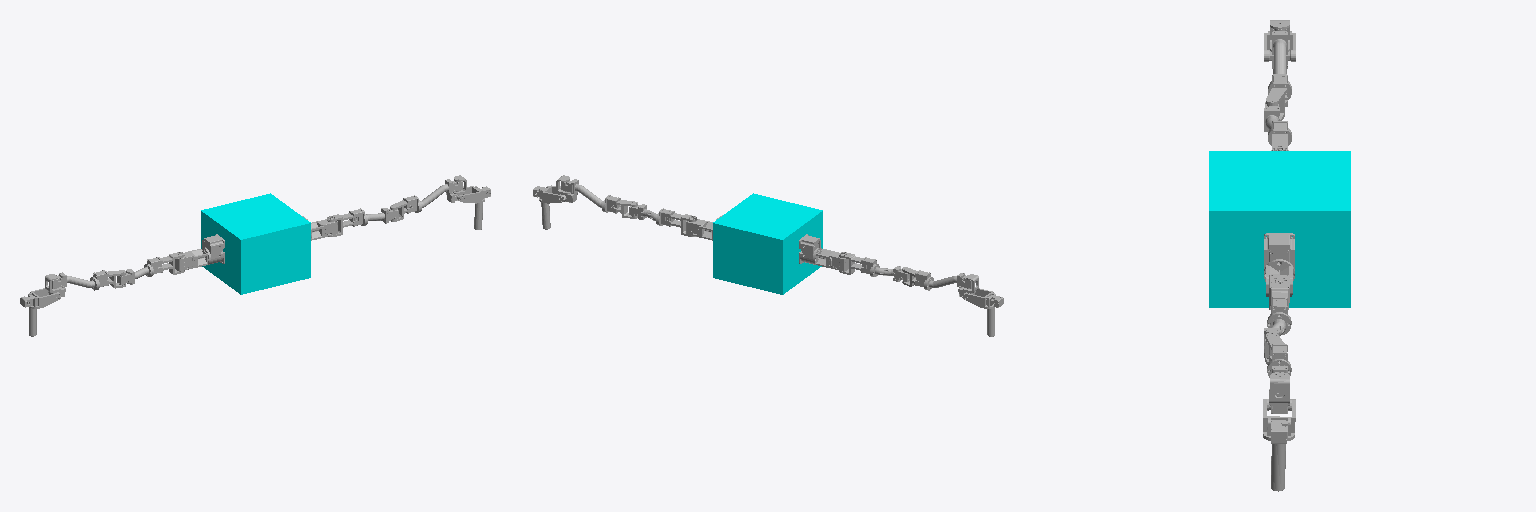
The robot description file, URDF, robot "m6_isomorphism_description":
<?xml version="1.0" encoding="utf-8"?>
<!-- This URDF was automatically created by SolidWorks to URDF Exporter! Originally created by Stephen Brawner (brawner@gmail.com) 
     Commit Version: 1.6.0-4-g7f85cfe  Build Version: 1.6.7995.38578
     For more information, please see http://wiki.ros.org/sw_urdf_exporter -->
<robot
  name="m6_isomorphism_description">
  <link
    name="torso_link">
    <visual>
      <origin xyz="0 0 0" rpy="0 0 0" />
      <geometry>
        <box size="0.2 0.2 0.15" />
      </geometry>
      <material name="Cyan">
        <color rgba="0 1.0 1.0 1.0"/>
      </material>
    </visual> 
    <collision>
      <origin xyz="0 0 0" rpy="0 0 0"/>
      <geometry>
        <box size="0.5 0.5 0.2" />
      </geometry>
    </collision>
  </link>
  <link
    name="lbase_link">
    <inertial>
      <origin
        xyz="0.00081892 -0.0083159 0.021995"
        rpy="0 0 0" />
      <mass
        value="0.14153" />
      <inertia
        ixx="5.3433E-05"
        ixy="9.5426E-15"
        ixz="-1.697E-16"
        iyy="3.2138E-05"
        iyz="5.391E-07"
        izz="5.5068E-05" />
    </inertial>
    <visual>
      <origin
        xyz="0 0 0"
        rpy="0 0 0" />
      <geometry>
        <mesh
          filename="package://m6_isomorphism_description/meshes/left/lbase_link.STL" />
      </geometry>
      <material
        name="">
        <color
          rgba="0.75294 0.75294 0.75294 1" />
      </material>
    </visual>
    <collision>
      <origin
        xyz="0 0 0"
        rpy="0 0 0" />
      <geometry>
        <mesh
          filename="package://m6_isomorphism_description/meshes/left/lbase_link.STL" />
      </geometry>
    </collision>
  </link>
  <joint
    name="left_Jbase"
    type="fixed">
    <origin
      xyz="0.1 0.0 0.0"
      rpy="-1.5708 0 -1.5708" />
    <parent
      link="torso_link" />
    <child
      link="lbase_link" />  
    <axis
      xyz="0 0 1" />
  </joint>
  <link
    name="Link1_left">
    <inertial>
      <origin
        xyz="-4.9359E-06 -0.00023578 0.055002"
        rpy="0 0 0" />
      <mass
        value="0.10316" />
      <inertia
        ixx="2.6252E-05"
        ixy="-1.512E-08"
        ixz="-1.5088E-09"
        iyy="2.553E-05"
        iyz="-7.2071E-08"
        izz="1.6668E-05" />
    </inertial>
    <visual>
      <origin
        xyz="0 0 0"
        rpy="0 0 0" />
      <geometry>
        <mesh
          filename="package://m6_isomorphism_description/meshes/left/Link1_left.STL" />
      </geometry>
      <material
        name="">
        <color
          rgba="0.75294 0.75294 0.75294 1" />
      </material>
    </visual>
    <collision>
      <origin
        xyz="0 0 0"
        rpy="0 0 0" />
      <geometry>
        <mesh
          filename="package://m6_isomorphism_description/meshes/left/Link1_left.STL" />
      </geometry>
    </collision>
  </link>
  <joint
    name="joint1_left"
    type="revolute">
    <origin
      xyz="0.00081892 0.0024472 0.039"
      rpy="0 0 0" />
    <parent
      link="lbase_link" />
    <child
      link="Link1_left" />
    <axis
      xyz="0 0 1" />
    <limit
      lower="-3.1415926536"
      upper="3.1415926536"
      effort="0"
      velocity="0" />
  </joint>
  <link
    name="Link2_left">
    <inertial>
      <origin
        xyz="-9.4609E-05 0.054722 0.0046093"
        rpy="0 0 0" />
      <mass
        value="0.053274" />
      <inertia
        ixx="1.6186E-05"
        ixy="3.4697E-08"
        ixz="1.1836E-07"
        iyy="1.0104E-05"
        iyz="-1.663E-06"
        izz="1.0442E-05" />
    </inertial>
    <visual>
      <origin
        xyz="0 0 0"
        rpy="0 0 0" />
      <geometry>
        <mesh
          filename="package://m6_isomorphism_description/meshes/left/Link2_left.STL" />
      </geometry>
      <material
        name="">
        <color
          rgba="0.75294 0.75294 0.75294 1" />
      </material>
    </visual>
    <collision>
      <origin
        xyz="0 0 0"
        rpy="0 0 0" />
      <geometry>
        <mesh
          filename="package://m6_isomorphism_description/meshes/left/Link2_left.STL" />
      </geometry>
    </collision>
  </link>
  <joint
    name="joint2_left"
    type="revolute">
    <origin
      xyz="0 0 0.07625"
      rpy="1.5708 0 0" />
    <parent
      link="Link1_left" />
    <child
      link="Link2_left" />
    <axis
      xyz="0 0 1" />
    <limit
      lower="-2.006"
      upper="2.006"
      effort="0"
      velocity="0" />
  </joint>
  <link
    name="Link3_left">
    <inertial>
      <origin
        xyz="-0.0088573 0.00010453 0.060075"
        rpy="0 0 0" />
      <mass
        value="0.039076" />
      <inertia
        ixx="9.9382E-06"
        ixy="1.2005E-10"
        ixz="1.4648E-06"
        iyy="1.0153E-05"
        iyz="-3.7245E-09"
        izz="2.7E-06" />
    </inertial>
    <visual>
      <origin
        xyz="0 0 0"
        rpy="0 0 0" />
      <geometry>
        <mesh
          filename="package://m6_isomorphism_description/meshes/left/Link3_left.STL" />
      </geometry>
      <material
        name="">
        <color
          rgba="0.752941176470588 0.752941176470588 0.752941176470588 1" />
      </material>
    </visual>
    <collision>
      <origin
        xyz="0 0 0"
        rpy="0 0 0" />
      <geometry>
        <mesh
          filename="package://m6_isomorphism_description/meshes/left/Link3_left.STL" />
      </geometry>
    </collision>
  </link>
  <joint
    name="joint3_left"
    type="revolute">
    <origin
      xyz="0 0.0856 0"
      rpy="1.5708 0.020931 3.1416" />
    <parent
      link="Link2_left" />
    <child
      link="Link3_left" />
    <axis
      xyz="0 0 1" />
    <limit
      lower="-3.1415926536"
      upper="3.1415926536"
      effort="0"
      velocity="0" />
  </joint>
  <link
    name="Link4_left">
    <inertial>
      <origin
        xyz="0.0090125 -0.046452 0.0047712"
        rpy="0 0 0" />
      <mass
        value="0.045678" />
      <inertia
        ixx="9.3402E-06"
        ixy="7.9511E-07"
        ixz="-1.5755E-07"
        iyy="7.7962E-06"
        iyz="6.394E-07"
        izz="5.5638E-06" />
    </inertial>
    <visual>
      <origin
        xyz="0 0 0"
        rpy="0 0 0" />
      <geometry>
        <mesh
          filename="package://m6_isomorphism_description/meshes/left/Link4_left.STL" />
      </geometry>
      <material
        name="">
        <color
          rgba="0.75294 0.75294 0.75294 1" />
      </material>
    </visual>
    <collision>
      <origin
        xyz="0 0 0"
        rpy="0 0 0" />
      <geometry>
        <mesh
          filename="package://m6_isomorphism_description/meshes/left/Link4_left.STL" />
      </geometry>
    </collision>
  </link>
  <joint
    name="joint4_left"
    type="revolute">
    <origin
      xyz="-0.0108 0 0.0866"
      rpy="-1.5708 0 0" />
    <parent
      link="Link3_left" />
    <child
      link="Link4_left" />
    <axis
      xyz="0 0 1" />
    <limit
      lower="-2.5307"
      upper="1.0472"
      effort="0"
      velocity="0" />
  </joint>
  <link
    name="Link5_left">
    <inertial>
      <origin
        xyz="2.0294E-06 0.022265 0.079959"
        rpy="0 0 0" />
      <mass
        value="0.04843" />
      <inertia
        ixx="2.866E-05"
        ixy="8.9312E-11"
        ixz="1.8969E-09"
        iyy="2.5141E-05"
        iyz="-8.6915E-06"
        izz="6.062E-06" />
    </inertial>
    <visual>
      <origin
        xyz="0 0 0"
        rpy="0 0 0" />
      <geometry>
        <mesh
          filename="package://m6_isomorphism_description/meshes/left/Link5_left.STL" />
      </geometry>
      <material
        name="">
        <color
          rgba="0.75294 0.75294 0.75294 1" />
      </material>
    </visual>
    <collision>
      <origin
        xyz="0 0 0"
        rpy="0 0 0" />
      <geometry>
        <mesh
          filename="package://m6_isomorphism_description/meshes/left/Link5_left.STL" />
      </geometry>
    </collision>
  </link>
  <joint
    name="joint5_left"
    type="revolute">
    <origin
      xyz="0.0108 -0.0679 0"
      rpy="1.5708 0 0" />
    <parent
      link="Link4_left" />
    <child
      link="Link5_left" />
    <axis
      xyz="0 0 1" />
    <limit
      lower="-3.1415926536"
      upper="3.1415926536"
      effort="0"
      velocity="0" />
  </joint>
  <link
    name="Link6_left">
    <inertial>
      <origin
        xyz="-0.0029023 -0.00020771 -0.0089462"
        rpy="0 0 0" />
      <mass
        value="0.033032" />
      <inertia
        ixx="4.1554E-06"
        ixy="-3.7945E-08"
        ixz="8.6008E-07"
        iyy="6.6046E-06"
        iyz="4.435E-08"
        izz="4.9225E-06" />
    </inertial>
    <visual>
      <origin
        xyz="0 0 0"
        rpy="0 0 0" />
      <geometry>
        <mesh
          filename="package://m6_isomorphism_description/meshes/left/Link6_left.STL" />
      </geometry>
      <material
        name="">
        <color
          rgba="0.75294 0.75294 0.75294 1" />
      </material>
    </visual>
    <collision>
      <origin
        xyz="0 0 0"
        rpy="0 0 0" />
      <geometry>
        <mesh
          filename="package://m6_isomorphism_description/meshes/left/Link6_left.STL" />
      </geometry>
    </collision>
  </link>
  <joint
    name="joint6_left"
    type="revolute">
    <origin
      xyz="0 0 0.1205"
      rpy="1.5708 -1.5708 0" />
    <parent
      link="Link5_left" />
    <child
      link="Link6_left" />
    <axis
      xyz="0 0 -1" />
    <limit
      lower="-1.47"
      upper="1.47"
      effort="0"
      velocity="0" />
  </joint>
  <link
    name="Link7_left">
    <inertial>
      <origin
        xyz="-0.053415 -0.016259 -7.1386E-05"
        rpy="0 0 0" />
      <mass
        value="0.06829" />
      <inertia
        ixx="3.6319E-05"
        ixy="-9.7986E-06"
        ixz="-3.7117E-09"
        iyy="2.5283E-05"
        iyz="-2.933E-10"
        izz="4.5198E-05" />
    </inertial>
    <visual>
      <origin
        xyz="0 0 0"
        rpy="0 0 0" />
      <geometry>
        <mesh
          filename="package://m6_isomorphism_description/meshes/left/Link7_left.STL" />
      </geometry>
      <material
        name="">
        <color
          rgba="0.75294 0.75294 0.75294 1" />
      </material>
    </visual>
    <collision>
      <origin
        xyz="0 0 0"
        rpy="0 0 0" />
      <geometry>
        <mesh
          filename="package://m6_isomorphism_description/meshes/left/Link7_left.STL" />
      </geometry>
    </collision>
  </link>
  <joint
    name="joint7_left"
    type="revolute">
    <origin
      xyz="0 0 0"
      rpy="-1.5708 0 3.1416" />
    <parent
      link="Link6_left" />
    <child
      link="Link7_left" />
    <axis
      xyz="0 0 -1" />
    <limit
      lower="-1.57"
      upper="1.57"
      effort="0"
      velocity="0" />
  </joint>

  <link
    name="rbase_link">
    <inertial>
      <origin
        xyz="-4.2135E-12 -0.010763 0.021995"
        rpy="0 0 0" />
      <mass
        value="0.14153" />
      <inertia
        ixx="5.3433E-05"
        ixy="9.5427E-15"
        ixz="-1.6969E-16"
        iyy="3.2138E-05"
        iyz="5.391E-07"
        izz="5.5068E-05" />
    </inertial>
    <visual>
      <origin
        xyz="0 0 0"
        rpy="0 0 0" />
      <geometry>
        <mesh
          filename="package://m6_isomorphism_description/meshes/right/base_link.STL" />
      </geometry>
      <material
        name="">
        <color
          rgba="0.75294 0.75294 0.75294 1" />
      </material>
    </visual>
    <collision>
      <origin
        xyz="0 0 0"
        rpy="0 0 0" />
      <geometry>
        <mesh
          filename="package://m6_isomorphism_description/meshes/right/base_link.STL" />
      </geometry>
    </collision>
  </link>
  <joint
    name="right_Jbase"
    type="fixed">
    <origin
      xyz="-0.1 0.0 0.0"
      rpy="-1.5708 0 1.5708" />
    <parent
      link="torso_link" />
    <child
      link="rbase_link" />  
    <axis
      xyz="0 0 1" />
  </joint>
  <link
    name="Link1_right">
    <inertial>
      <origin
        xyz="-5.78E-12 -0.00023583 0.055002"
        rpy="0 0 0" />
      <mass
        value="0.10316" />
      <inertia
        ixx="2.6252E-05"
        ixy="1.698E-16"
        ixz="9.5436E-15"
        iyy="2.553E-05"
        iyz="-7.2087E-08"
        izz="1.6668E-05" />
    </inertial>
    <visual>
      <origin
        xyz="0 0 0"
        rpy="0 0 0" />
      <geometry>
        <mesh
          filename="package://m6_isomorphism_description/meshes/right/Link1.STL" />
      </geometry>
      <material
        name="">
        <color
          rgba="0.75294 0.75294 0.75294 1" />
      </material>
    </visual>
    <collision>
      <origin
        xyz="0 0 0"
        rpy="0 0 0" />
      <geometry>
        <mesh
          filename="package://m6_isomorphism_description/meshes/right/Link1.STL" />
      </geometry>
    </collision>
  </link>
  <joint
    name="joint1_right"
    type="revolute">
    <origin
      xyz="0 0 0.039"
      rpy="0 0 0" />
    <parent
      link="rbase_link" />
    <child
      link="Link1_right" />
    <axis
      xyz="0 0 1" />
    <limit
      lower="-3.1415926536"
      upper="3.1415926536"
      effort="0"
      velocity="0" />
  </joint>
  <link
    name="Link2_right">
    <inertial>
      <origin
        xyz="1.8833E-06 0.054722 0.0046102"
        rpy="0 0 0" />
      <mass
        value="0.053274" />
      <inertia
        ixx="1.6188E-05"
        ixy="-1.1763E-10"
        ixz="-1.93E-09"
        iyy="1.0104E-05"
        iyz="-1.6634E-06"
        izz="1.044E-05" />
    </inertial>
    <visual>
      <origin
        xyz="0 0 0"
        rpy="0 0 0" />
      <geometry>
        <mesh
          filename="package://m6_isomorphism_description/meshes/right/Link2.STL" />
      </geometry>
      <material
        name="">
        <color
          rgba="0.75294 0.75294 0.75294 1" />
      </material>
    </visual>
    <collision>
      <origin
        xyz="0 0 0"
        rpy="0 0 0" />
      <geometry>
        <mesh
          filename="package://m6_isomorphism_description/meshes/right/Link2.STL" />
      </geometry>
    </collision>
  </link>
  <joint
    name="joint2_right"
    type="revolute">
    <origin
      xyz="0 0 0.07625"
      rpy="1.5708 0 0" />
    <parent
      link="Link1_right" />
    <child
      link="Link2_right" />
    <axis
      xyz="0 0 -1" />
    <limit
      lower="-2.006"
      upper="2.006"
      effort="0"
      velocity="0" />
  </joint>
  <link
    name="Link3_right">
    <inertial>
      <origin
        xyz="-0.0088521 -0.00010455 0.060175"
        rpy="0 0 0" />
      <mass
        value="0.039076" />
      <inertia
        ixx="9.9382E-06"
        ixy="1.1994E-10"
        ixz="1.4687E-06"
        iyy="1.0153E-05"
        iyz="3.7185E-09"
        izz="2.7E-06" />
    </inertial>
    <visual>
      <origin
        xyz="0 0 0"
        rpy="0 0 0" />
      <geometry>
        <mesh
          filename="package://m6_isomorphism_description/meshes/right/Link3Right.STL" />
      </geometry>
      <material
        name="">
        <color
          rgba="0.752941176470588 0.752941176470588 0.752941176470588 1" />
      </material>
    </visual>
    <collision>
      <origin
        xyz="0 0 0"
        rpy="0 0 0" />
      <geometry>
        <mesh
          filename="package://m6_isomorphism_description/meshes/right/Link3Right.STL" />
      </geometry>
    </collision>
  </link>
  <joint
    name="joint3_right"
    type="revolute">
    <origin
      xyz="0 0.0855 0"
      rpy="-1.5708 0 0" />
    <parent
      link="Link2_right" />
    <child
      link="Link3_right" />
    <axis
      xyz="0 0 1" />
    <limit
      lower="-3.1415926536"
      upper="3.1415926536"
      effort="0"
      velocity="0" />
  </joint>
  <link
    name="Link4_right">
    <inertial>
      <origin
        xyz="-0.00901689110793653 -0.0464515200570909 0.00477115374976674"
        rpy="0 0 0" />
      <mass
        value="0.0456777687039141" />
      <inertia
        ixx="9.34024223442292E-06"
        ixy="-7.95347048587573E-07"
        ixz="1.61414786983041E-07"
        iyy="7.7962295104586E-06"
        iyz="6.39398605604744E-07"
        izz="5.56379318366526E-06" />
    </inertial>
    <visual>
      <origin
        xyz="0 0 0"
        rpy="0 0 0" />
      <geometry>
        <mesh
          filename="package://m6_isomorphism_description/meshes/right/Link4Right.STL" />
      </geometry>
      <material
        name="">
        <color
          rgba="0.75294 0.75294 0.75294 1" />
      </material>
    </visual>
    <collision>
      <origin
        xyz="0 0 0"
        rpy="0 0 0" />
      <geometry>
        <mesh
          filename="package://m6_isomorphism_description/meshes/right/Link4Right.STL" />
      </geometry>
    </collision>
  </link>
  <joint
    name="joint4_right"
    type="revolute">
    <origin
      xyz="-0.0108 0 0.0866"
      rpy="-1.5708 0 3.1416" />
    <parent
      link="Link3_right" />
    <child
      link="Link4_right" />
    <axis
      xyz="0 0 -1" />
    <limit
      lower="-2.5307"
      upper="1.0472"
      effort="0"
      velocity="0" />
  </joint>
  <link
    name="Link5_right">
    <inertial>
      <origin
        xyz="2.02991887769521E-06 0.0222647030050976 0.0800586915495062"
        rpy="0 0 0" />
      <mass
        value="0.0484304785891184" />
      <inertia
        ixx="2.86602501146503E-05"
        ixy="8.95440075388163E-11"
        ixz="1.89715228371115E-09"
        iyy="2.51405145901762E-05"
        iyz="-8.69150851164098E-06"
        izz="6.06196898362062E-06" />
    </inertial>
    <visual>
      <origin
        xyz="0 0 0"
        rpy="0 0 0" />
      <geometry>
        <mesh
          filename="package://m6_isomorphism_description/meshes/right/Link5.STL" />
      </geometry>
      <material
        name="">
        <color
          rgba="0.75294 0.75294 0.75294 1" />
      </material>
    </visual>
    <collision>
      <origin
        xyz="0 0 0"
        rpy="0 0 0" />
      <geometry>
        <mesh
          filename="package://m6_isomorphism_description/meshes/right/Link5.STL" />
      </geometry>
    </collision>
  </link>
  <joint
    name="joint5_right"
    type="revolute">
    <origin
      xyz="-0.0108 -0.0678 0"
      rpy="1.5708 0 0" />
    <parent
      link="Link4_right" />
    <child
      link="Link5_right" />
    <axis
      xyz="0 0 1" />
    <limit
      lower="-3.1415926536"
      upper="3.1415926536"
      effort="0"
      velocity="0" />
  </joint>
  <link
    name="Link6_right">
    <inertial>
      <origin
        xyz="-0.00290227715298547 3.96280505677527E-05 0.0205598514145804"
        rpy="0 0 0" />
      <mass
        value="0.0330324963615052" />
      <inertia
        ixx="4.15542955362733E-06"
        ixy="-4.53879610391078E-08"
        ixz="8.63936024536734E-07"
        iyy="6.60461815163141E-06"
        iyz="4.43497186506156E-08"
        izz="4.92250843544468E-06" />
    </inertial>
    <visual>
      <origin
        xyz="0 0 0"
        rpy="0 0 0" />
      <geometry>
        <mesh
          filename="package://m6_isomorphism_description/meshes/right/Link6.STL" />
      </geometry>
      <material
        name="">
        <color
          rgba="0.75294 0.75294 0.75294 1" />
      </material>
    </visual>
    <collision>
      <origin
        xyz="0 0 0"
        rpy="0 0 0" />
      <geometry>
        <mesh
          filename="package://m6_isomorphism_description/meshes/right/Link6.STL" />
      </geometry>
    </collision>
  </link>
  <joint
    name="joint6_right"
    type="revolute">
    <origin
      xyz="0 0.0295 0.1206"
      rpy="1.5708 -1.5708 0" />
    <parent
      link="Link5_right" />
    <child
      link="Link6_right" />
    <axis
      xyz="0 0 1" />
    <limit
      lower="-1.47"
      upper="1.47"
      effort="0"
      velocity="0" />
  </joint>
  <link
    name="Link7_right">
    <inertial>
      <origin
        xyz="-0.0541233230831182 -0.0137141068703963 7.13861477421698E-05"
        rpy="0 0 0" />
      <mass
        value="0.068486" />
      <inertia
        ixx="3.53695211919894E-05"
        ixy="-1.02794871829881E-05"
        ixz="3.72145785842467E-09"
        iyy="2.62323922803186E-05"
        iyz="-1.17627026827259E-10"
        izz="4.51983917973854E-05" />
    </inertial>
    <visual>
      <origin
        xyz="0 0 0"
        rpy="0 0 0" />
      <geometry>
        <mesh
          filename="package://m6_isomorphism_description/meshes/right/Link7Right.STL" />
      </geometry>
      <material
        name="">
        <color
          rgba="0.75294 0.75294 0.75294 1" />
      </material>
    </visual>
    <collision>
      <origin
        xyz="0 0 0"
        rpy="0 0 0" />
      <geometry>
        <mesh
          filename="package://m6_isomorphism_description/meshes/right/Link7Right.STL" />
      </geometry>
    </collision>
  </link>
  <joint
    name="joint7_right"
    type="revolute">
    <origin
      xyz="0 0 0.0295"
      rpy="-1.5708 0 -3.1416" />
    <parent
      link="Link6_right" />
    <child
      link="Link7_right" />
    <axis
      xyz="0 0 1" />
    <limit
      lower="-1.57"
      upper="1.57"
      effort="0"
      velocity="0" />
  </joint>
</robot>

--- What the picture shows (computed from the rendered views, not written in the file) ---
Views: 3 orthographic renders of the robot side by side, from view 1: azimuth 30°, elevation 25°; view 2: azimuth 150°, elevation 25°; view 3: azimuth 270°, elevation 25°.
Robot: m6_isomorphism_description — 17 links, 16 joints (14 revolute, 2 fixed); root link torso_link; default pose: all joints at 0.
Visible links, largest first — view 1: torso_link, Link7_right, Link7_left, Link2_right, Link2_left, rbase_link; view 2: torso_link, Link7_right, Link7_left, Link2_left, Link2_right, rbase_link; view 3: torso_link, Link7_left, lbase_link, Link2_left, Link4_right, Link6_left, Link4_left, Link5_right, Link1_left, Link2_right.
Boxes of the visible links, bbox=[...] form: torso_link: bbox=[201, 193, 310, 294]; Link7_right: bbox=[20, 288, 61, 336]; Link7_left: bbox=[457, 186, 490, 229]; Link2_right: bbox=[144, 252, 184, 276]; Link2_left: bbox=[327, 208, 367, 236]; rbase_link: bbox=[202, 234, 224, 264]; torso_link: bbox=[713, 193, 822, 294]; Link7_right: bbox=[962, 288, 1003, 336]; Link7_left: bbox=[533, 185, 566, 229]; Link2_left: bbox=[656, 208, 696, 236]; Link2_right: bbox=[839, 252, 879, 276]; rbase_link: bbox=[799, 234, 821, 264]; torso_link: bbox=[1209, 151, 1350, 307]; Link7_left: bbox=[1263, 399, 1295, 491]; lbase_link: bbox=[1264, 233, 1294, 281]; Link2_left: bbox=[1267, 277, 1291, 334]; Link4_right: bbox=[1266, 74, 1291, 120]; Link6_left: bbox=[1269, 372, 1289, 413]; Link4_left: bbox=[1265, 333, 1291, 377]; Link5_right: bbox=[1272, 29, 1287, 73]; Link1_left: bbox=[1266, 265, 1292, 309]; Link2_right: bbox=[1268, 121, 1291, 150].
Bounding box of the posed robot: 1.33 × 0.2 × 0.1802 m (x, y, z).
16 mesh visuals loaded from 16 distinct referenced files (16 binary STL).
